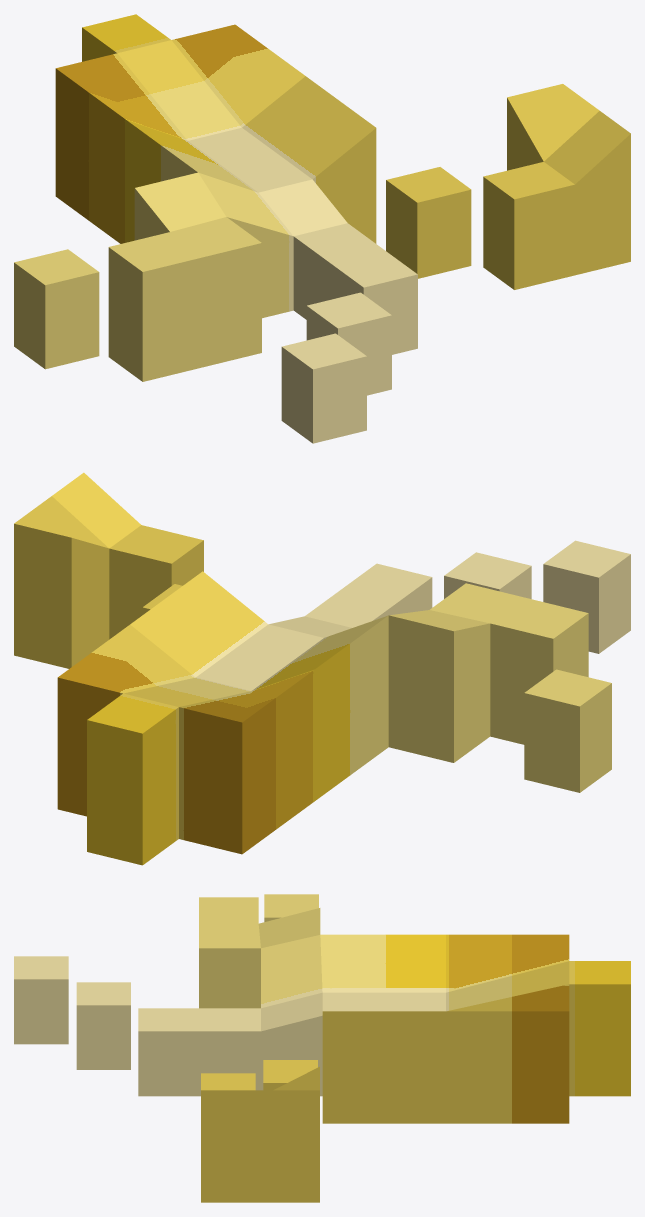
File: garbage_415x02.gltf
3 views of the same model, one above another, from view 1: azimuth 30°, elevation 25°; view 2: azimuth 150°, elevation 25°; view 3: azimuth 270°, elevation 25° (orthographic). The views are drawn at different scales.
Parts seen in each view (by area): view 1: garbage_415x02; view 2: garbage_415x02; view 3: garbage_415x02.
Part boxes in pixels (x1,y1,x2,y2): garbage_415x02: (14,14,630,443); garbage_415x02: (14,472,630,865); garbage_415x02: (14,894,630,1202).
Bounding box in the file's own units: 0.5554 × 0.1238 × 0.6175.
1 material, 1 textured.
